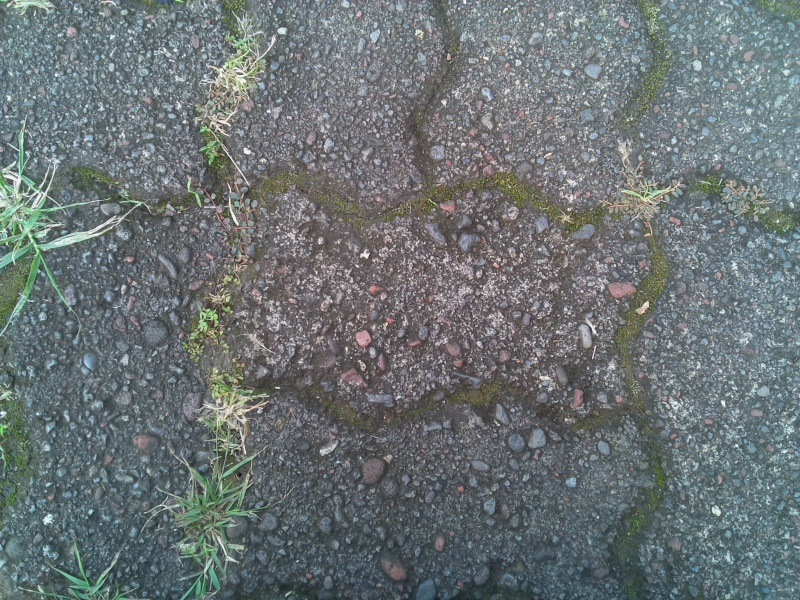Weed: (2, 150, 114, 318), (169, 459, 250, 588), (196, 32, 269, 120), (215, 189, 263, 289), (200, 374, 262, 444), (610, 163, 670, 225), (173, 297, 232, 358), (719, 177, 774, 230), (196, 137, 226, 166), (551, 204, 582, 232)
